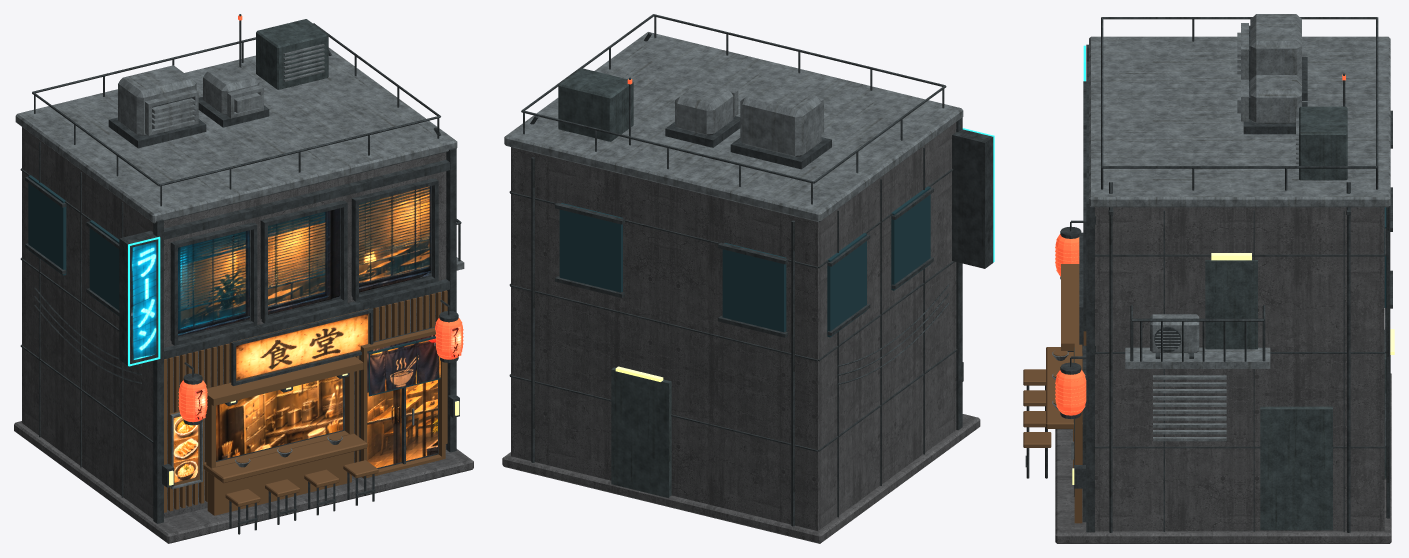
Rendered from japanese-cafe.glb.
The picture shows the model from 3 angles, left to right: view 1: azimuth 30°, elevation 25°; view 2: azimuth 150°, elevation 25°; view 3: azimuth 270°, elevation 25°; orthographic projection. The views are drawn at different scales.
Visible parts, largest first — view 1: CBJ1_JapaneseCafe_ApprovedArtwork, CBJ1_JapaneseCafe_Concrete, CBJ1_JapaneseCafe_RoofMetal, CBJ1_JapaneseCafe_BlackFrame, CBJ1_JapaneseCafe_DarkTimber, CBJ1_JapaneseCafe_SmokedGlass, CBJ1_JapaneseCafe_ServiceMetal, CBJ1_JapaneseCafe_PaperLantern, CBJ1_JapaneseCafe_SignCyan; view 2: CBJ1_JapaneseCafe_Concrete, CBJ1_JapaneseCafe_RoofMetal, CBJ1_JapaneseCafe_BlackFrame, CBJ1_JapaneseCafe_SmokedGlass, CBJ1_JapaneseCafe_ServiceMetal; view 3: CBJ1_JapaneseCafe_Concrete, CBJ1_JapaneseCafe_RoofMetal, CBJ1_JapaneseCafe_BlackFrame, CBJ1_JapaneseCafe_ServiceMetal, CBJ1_JapaneseCafe_DarkTimber, CBJ1_JapaneseCafe_PaperLantern, CBJ1_JapaneseCafe_WarmLight.
Part boxes in pixels (x1,y1,x2,y2): CBJ1_JapaneseCafe_ApprovedArtwork: (131, 186, 461, 482); CBJ1_JapaneseCafe_Concrete: (14, 127, 473, 543); CBJ1_JapaneseCafe_RoofMetal: (15, 44, 464, 489); CBJ1_JapaneseCafe_BlackFrame: (20, 14, 461, 534); CBJ1_JapaneseCafe_DarkTimber: (164, 290, 447, 515); CBJ1_JapaneseCafe_SmokedGlass: (28, 175, 440, 396); CBJ1_JapaneseCafe_ServiceMetal: (256, 19, 328, 89); CBJ1_JapaneseCafe_PaperLantern: (178, 15, 463, 422); CBJ1_JapaneseCafe_SignCyan: (128, 236, 160, 366); CBJ1_JapaneseCafe_Concrete: (502, 122, 980, 543); CBJ1_JapaneseCafe_RoofMetal: (504, 32, 963, 222); CBJ1_JapaneseCafe_BlackFrame: (509, 14, 993, 526); CBJ1_JapaneseCafe_SmokedGlass: (559, 186, 930, 337); CBJ1_JapaneseCafe_ServiceMetal: (558, 68, 671, 497); CBJ1_JapaneseCafe_Concrete: (1055, 207, 1391, 543); CBJ1_JapaneseCafe_RoofMetal: (1052, 14, 1390, 459); CBJ1_JapaneseCafe_BlackFrame: (1025, 17, 1392, 532); CBJ1_JapaneseCafe_ServiceMetal: (1205, 106, 1390, 530); CBJ1_JapaneseCafe_DarkTimber: (1023, 264, 1086, 523); CBJ1_JapaneseCafe_PaperLantern: (1055, 74, 1345, 415); CBJ1_JapaneseCafe_WarmLight: (1072, 253, 1394, 484).
Bounding box in the file's own units: 7.68 × 7.93 × 6.4.
Materials: 10 (5 with a texture image).
